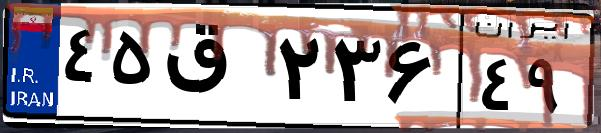2: (270, 28, 330, 110)
3: (330, 28, 385, 110)
4: (57, 26, 110, 100), (475, 38, 525, 113)
5: (110, 28, 158, 98)
6: (385, 28, 445, 110)
9: (525, 38, 570, 115)
ق: (158, 20, 270, 120)
